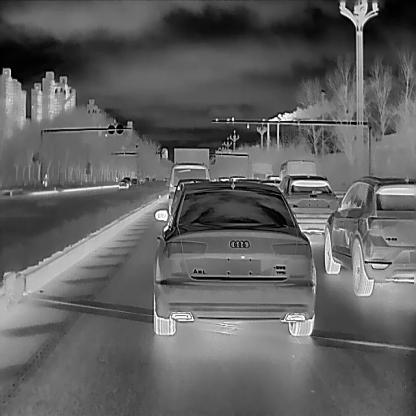car: (153, 182, 316, 335), (324, 175, 415, 295), (276, 173, 339, 234), (167, 162, 211, 215), (280, 157, 316, 187), (245, 159, 272, 188), (119, 180, 128, 190)
